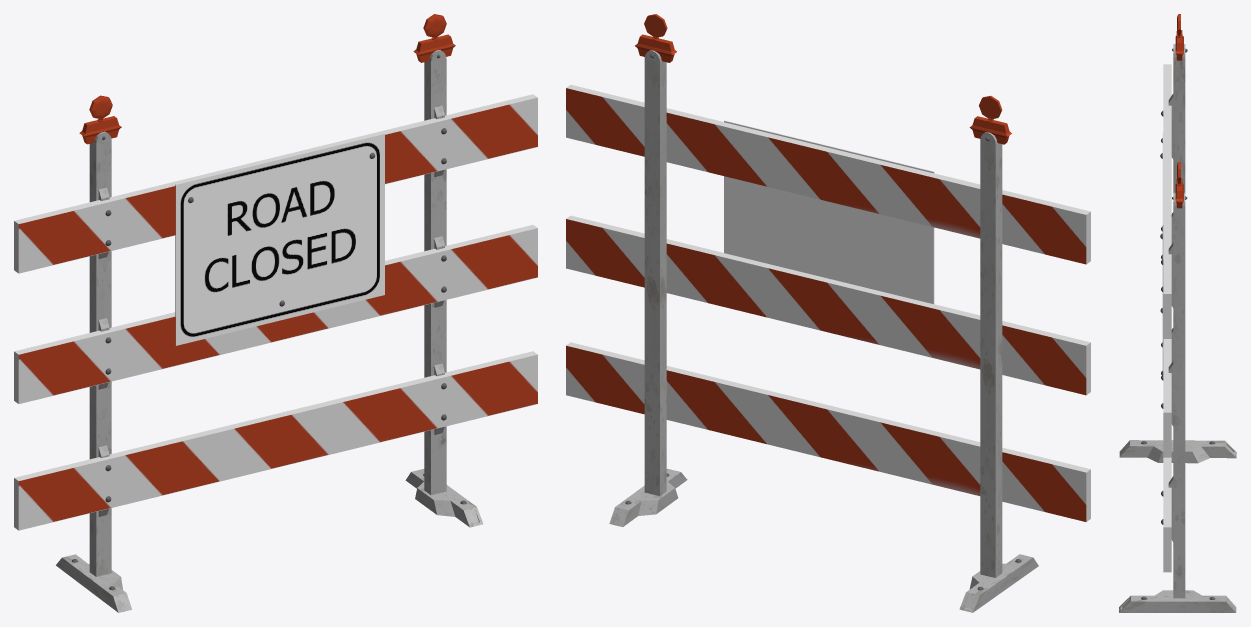
The model's file is ROAD CLOSED.obj.
3 renders of one model, left to right at view 1: azimuth 30°, elevation 25°; view 2: azimuth 150°, elevation 25°; view 3: azimuth 270°, elevation 25°, orthographic. The views are drawn at different scales.
Visible parts, largest first — view 1: Cube.009, Cube, Cube.018, Cube.003, Cube.001, Cube.002, Cube.008, Cube.006; view 2: Cube, Cube.018, Cube.003, Cube.009, Cube.001, Cube.002, Cube.008, Cube.006; view 3: Cube.001, Cube.003, Cube.006, Cube.008, Cube.002, Cube.018, Cube, Cube.009, Cube.011, Cube.012, Cube.007, Cube.005.
Boxes of the visible parts, x1,y1,x2,y2 form: Cube.009: (175, 133, 384, 345); Cube: (14, 351, 537, 530); Cube.018: (14, 225, 537, 403); Cube.003: (14, 94, 537, 273); Cube.001: (424, 59, 446, 495); Cube.002: (89, 140, 111, 576); Cube.008: (56, 554, 131, 612); Cube.006: (405, 469, 483, 527); Cube: (566, 342, 1090, 521); Cube.018: (566, 215, 1090, 395); Cube.003: (566, 84, 1090, 264); Cube.009: (724, 120, 934, 303); Cube.001: (644, 59, 666, 495); Cube.002: (980, 141, 1002, 577); Cube.008: (959, 554, 1038, 612); Cube.006: (609, 468, 687, 526); Cube.001: (1173, 205, 1185, 598); Cube.003: (1163, 64, 1171, 338); Cube.006: (1119, 590, 1236, 612); Cube.008: (1119, 440, 1236, 463); Cube.002: (1173, 57, 1185, 192); Cube.018: (1163, 339, 1171, 457); Cube: (1163, 457, 1171, 572); Cube.009: (1162, 132, 1163, 370); Cube.011: (1168, 94, 1173, 159); Cube.012: (1168, 242, 1173, 307); Cube.007: (1168, 361, 1173, 426); Cube.005: (1168, 476, 1173, 541).
Bounding box in the file's own units: 70.83 × 63.77 × 15.33.
